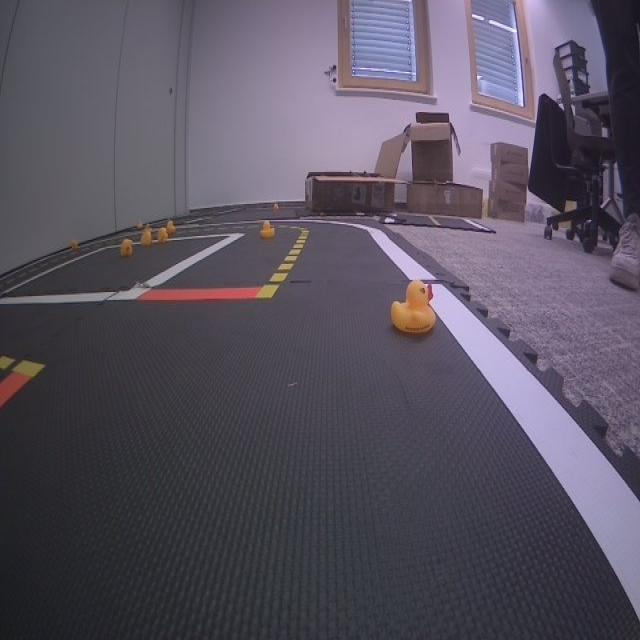duckie: (389, 278, 439, 348), (119, 238, 136, 258), (260, 221, 276, 241), (157, 228, 170, 245), (141, 230, 153, 246)
